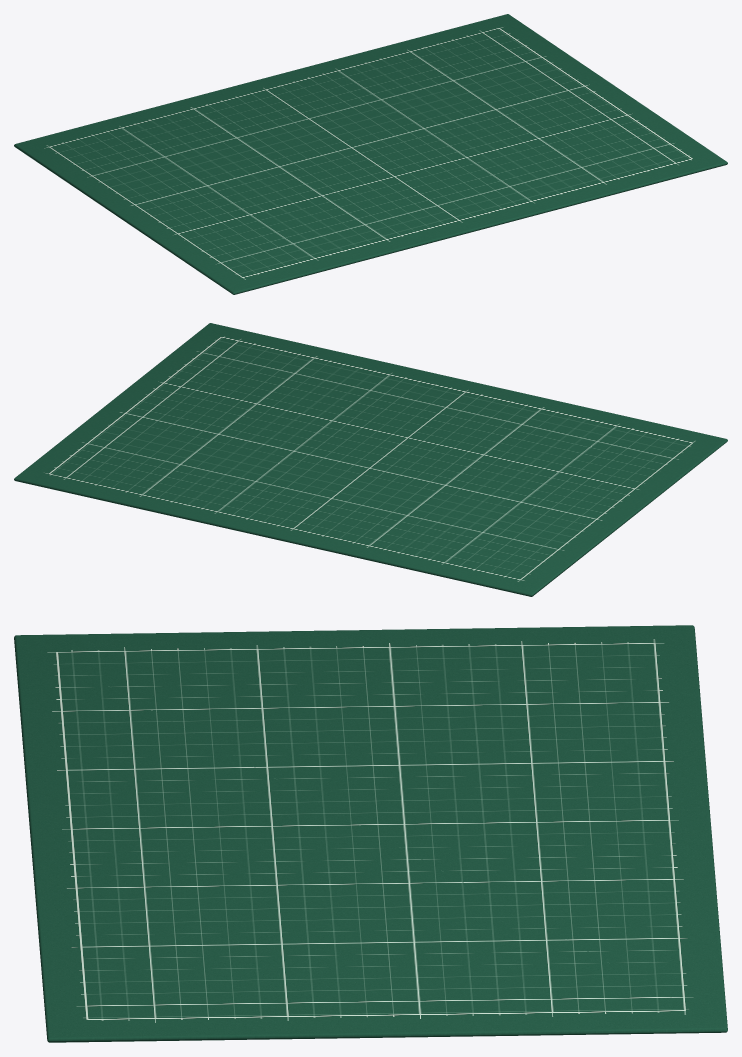
3 views of the same model, one above another, from view 1: azimuth 30°, elevation 25°; view 2: azimuth 150°, elevation 25°; view 3: azimuth 270°, elevation 25° (orthographic). The views are drawn at different scales.
Visible parts, largest first — view 1: mat; view 2: mat; view 3: mat.
Boxes of the visible parts, bbox=[...] form: mat: bbox=[14, 14, 727, 294]; mat: bbox=[14, 323, 727, 596]; mat: bbox=[14, 625, 727, 1042].
Bounding box in the file's own units: 0.5325 × 0.003 × 0.3878.
1 material, 1 textured.
